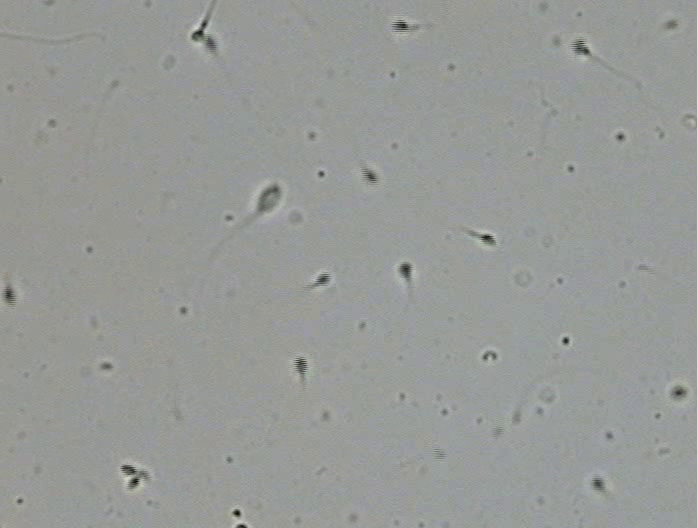S: (257, 183, 283, 214), (570, 37, 591, 56), (2, 286, 16, 306), (362, 168, 378, 184), (391, 19, 409, 33), (205, 34, 217, 54), (294, 357, 308, 374), (315, 272, 331, 286), (399, 262, 413, 278), (480, 234, 497, 246), (120, 464, 137, 475), (591, 476, 604, 490), (127, 477, 140, 490), (191, 30, 204, 42), (672, 386, 685, 398)
